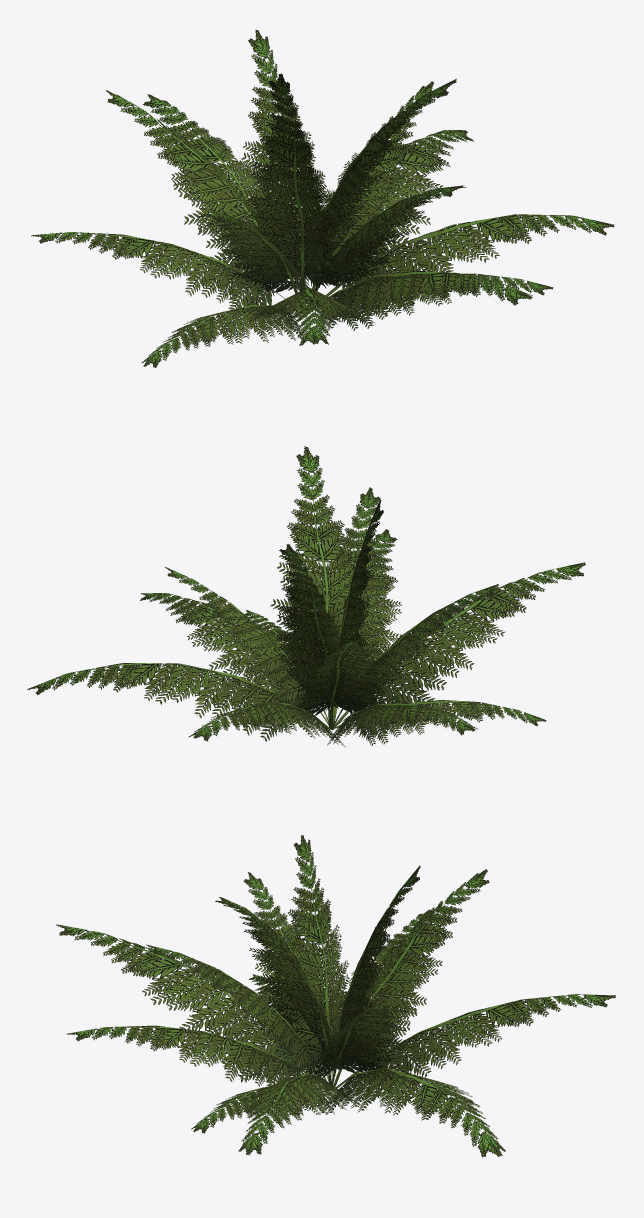
The model's file is Fern_01.FBX.
3 views of the same model, one above another, from view 1: azimuth 30°, elevation 25°; view 2: azimuth 150°, elevation 25°; view 3: azimuth 270°, elevation 25° (orthographic). The views are drawn at different scales.
Visible parts, largest first — view 1: Fern_01; view 2: Fern_01; view 3: Fern_01.
Boxes of the visible parts, x1,y1,x2,y2 form: Fern_01: (31,30,614,367); Fern_01: (27,446,585,747); Fern_01: (56,835,615,1157).
Bounding box in the file's own units: 2.59 × 1.37 × 2.83.
Materials: 1 (1 with a texture image).
